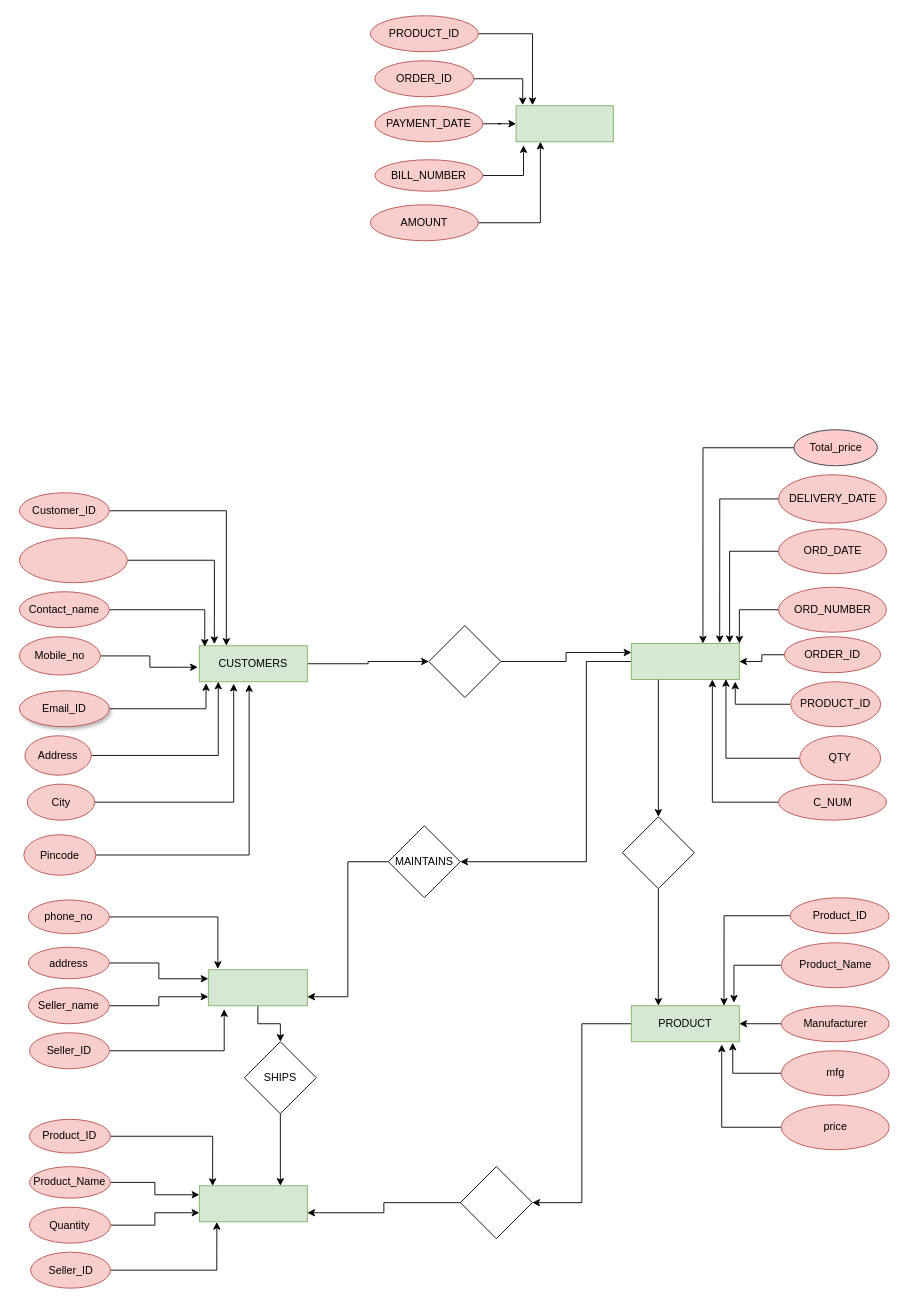
Image size: 905x1304. Some labels were removed from this diagram. Each missing label, with the centre of its shape:
CHECK: pixel 657 852
CHECKS: pixel 495 1202
Company_name: pixel 72 560
Inventory: pixel 252 1203
ORDERS: pixel 684 661
PAYMENTS: pixel 564 123
PLACES: pixel 464 661
Seller: pixel 257 987
